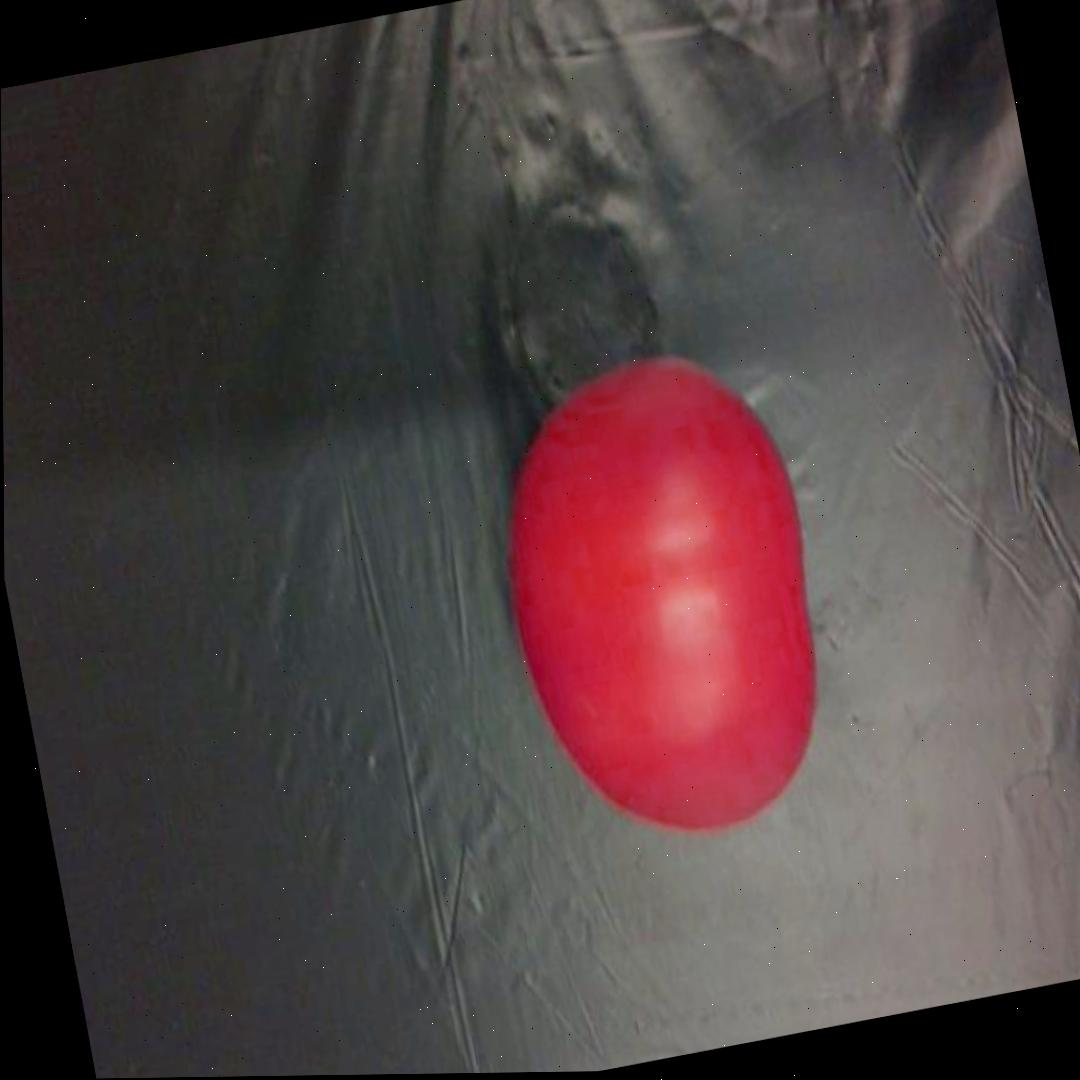matang: (475, 331, 852, 857)
